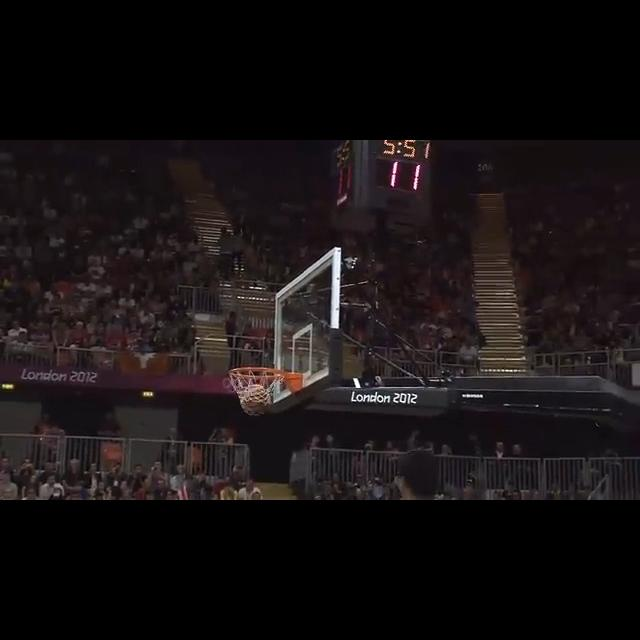basketball: (242, 383, 272, 413)
hoop: (229, 366, 283, 416)
